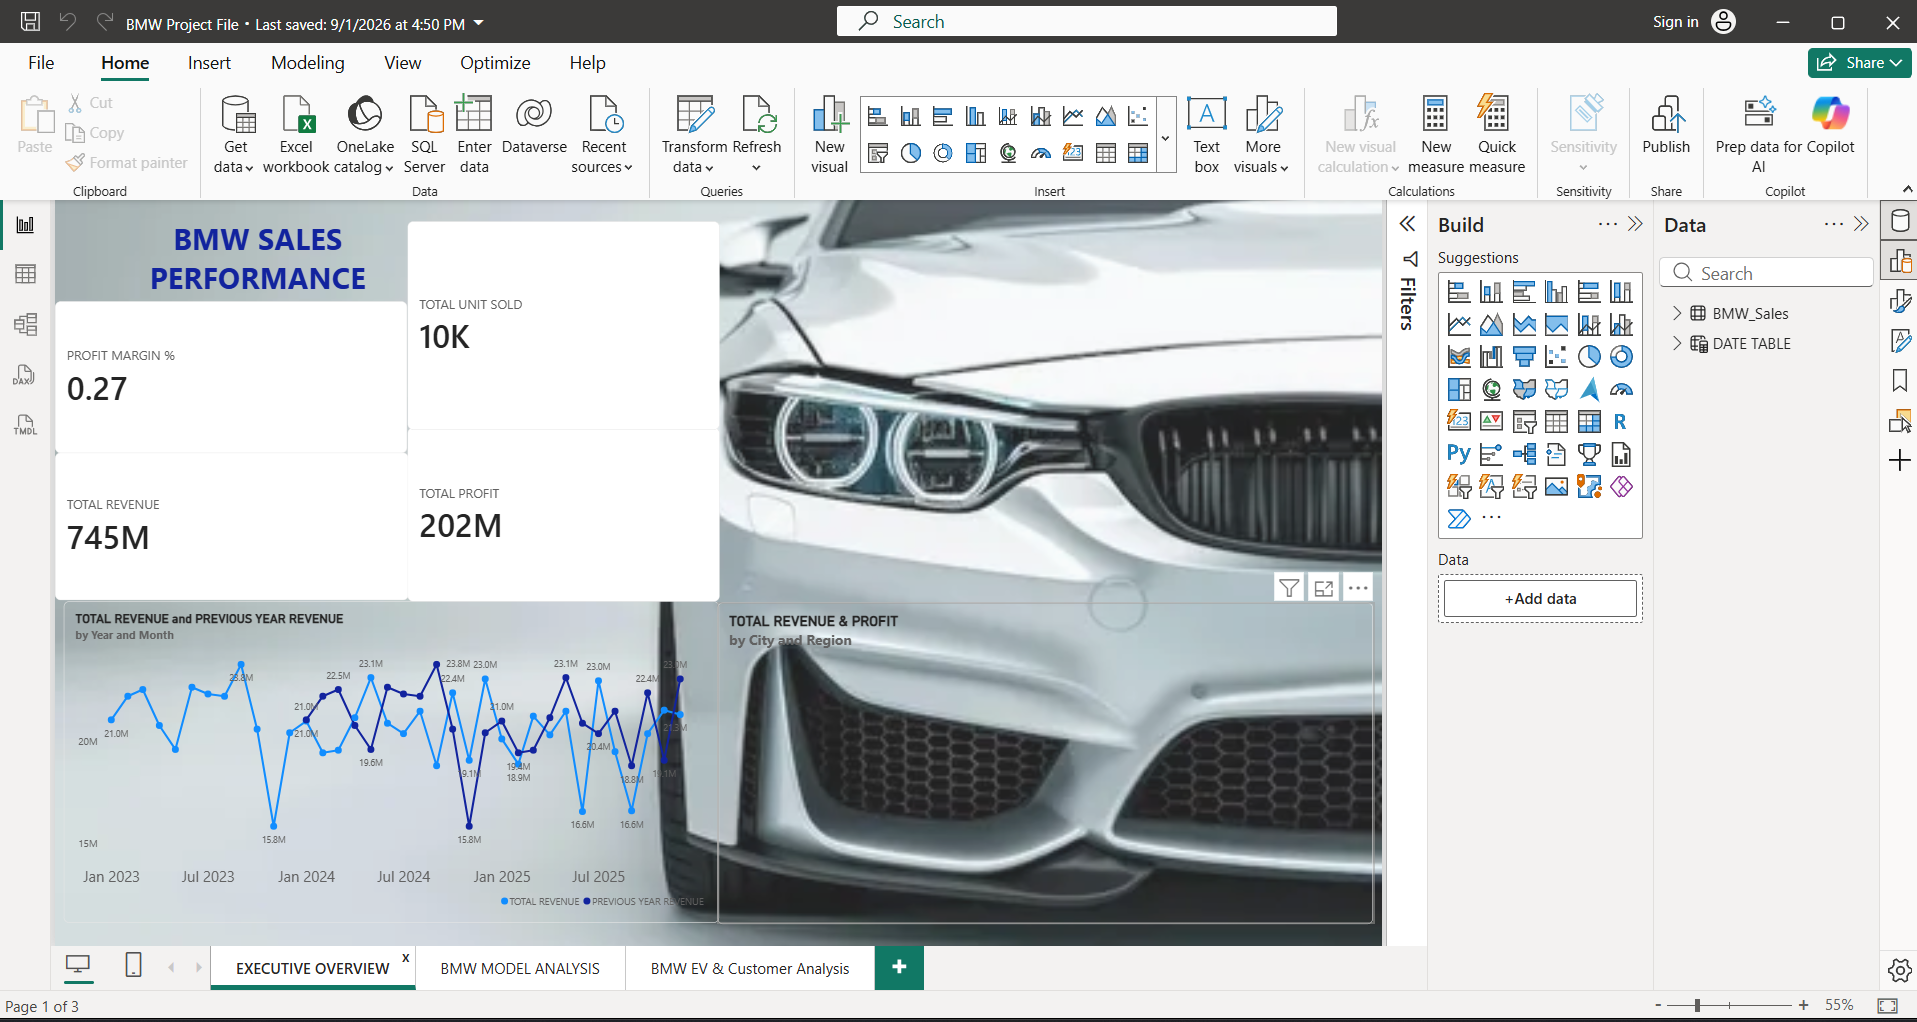

What the dashboard file says about the page in this screenshot:
{"tool":"powerbi","page":{"name":"EXECUTIVE OVERVIEW","canvas":[1920,1080],"ordinal":0},"visuals":[{"type":"textbox","box":[9.9,24.6,569.2,231.6],"z":0},{"type":"cardVisual","fields":{"Data":["BMW_Sales.TOTAL REVENUE"]},"box":[0,366,512,214],"z":1000},{"type":"cardVisual","fields":{"Data":["BMW_Sales.TOTAL PROFIT"]},"box":[510,330,452,252],"z":2000},{"type":"cardVisual","fields":{"Data":["BMW_Sales.TOTAL UNIT SOLD"]},"box":[510,30,452,302],"z":3000},{"type":"cardVisual","fields":{"Data":["BMW_Sales.PROFIT MARGIN %"]},"box":[0,146,510,220],"z":4000},{"type":"lineChart","fields":{"Y":["BMW_Sales.TOTAL REVENUE","BMW_Sales.PREVIOUS YEAR REVENUE"],"Category":["DATE TABLE.Date.Variation.Date Hierarchy.Year","DATE TABLE.Date.Variation.Date Hierarchy.Month"]},"box":[12.3,581.5,948.7,465.7],"z":5000},{"type":"map","title":"TOTAL REVENUE &  PROFIT","fields":{"Category":["BMW_Sales.City"],"Size":["BMW_Sales.TOTAL REVENUE"],"Series":["BMW_Sales.Region"]},"box":[960,582,948.7,465.7],"z":6000}]}

Visuals, with their boxes on the page's 1920x1080 design canvas (x1, y1, x2, y2). These are canvas units, not pixel positions in the 1917x1022 screenshot, which may show the page scaled, cropped or inside an application window:
textbox: 10/25/579/256
cardVisual - BMW_Sales.TOTAL REVENUE: 0/366/512/580
cardVisual - BMW_Sales.TOTAL PROFIT: 510/330/962/582
cardVisual - BMW_Sales.TOTAL UNIT SOLD: 510/30/962/332
cardVisual - BMW_Sales.PROFIT MARGIN %: 0/146/510/366
lineChart - BMW_Sales.TOTAL REVENUE x BMW_Sales.PREVIOUS YEAR REVENUE: 12/582/961/1047
"TOTAL REVENUE &  PROFIT" map: 960/582/1909/1048
